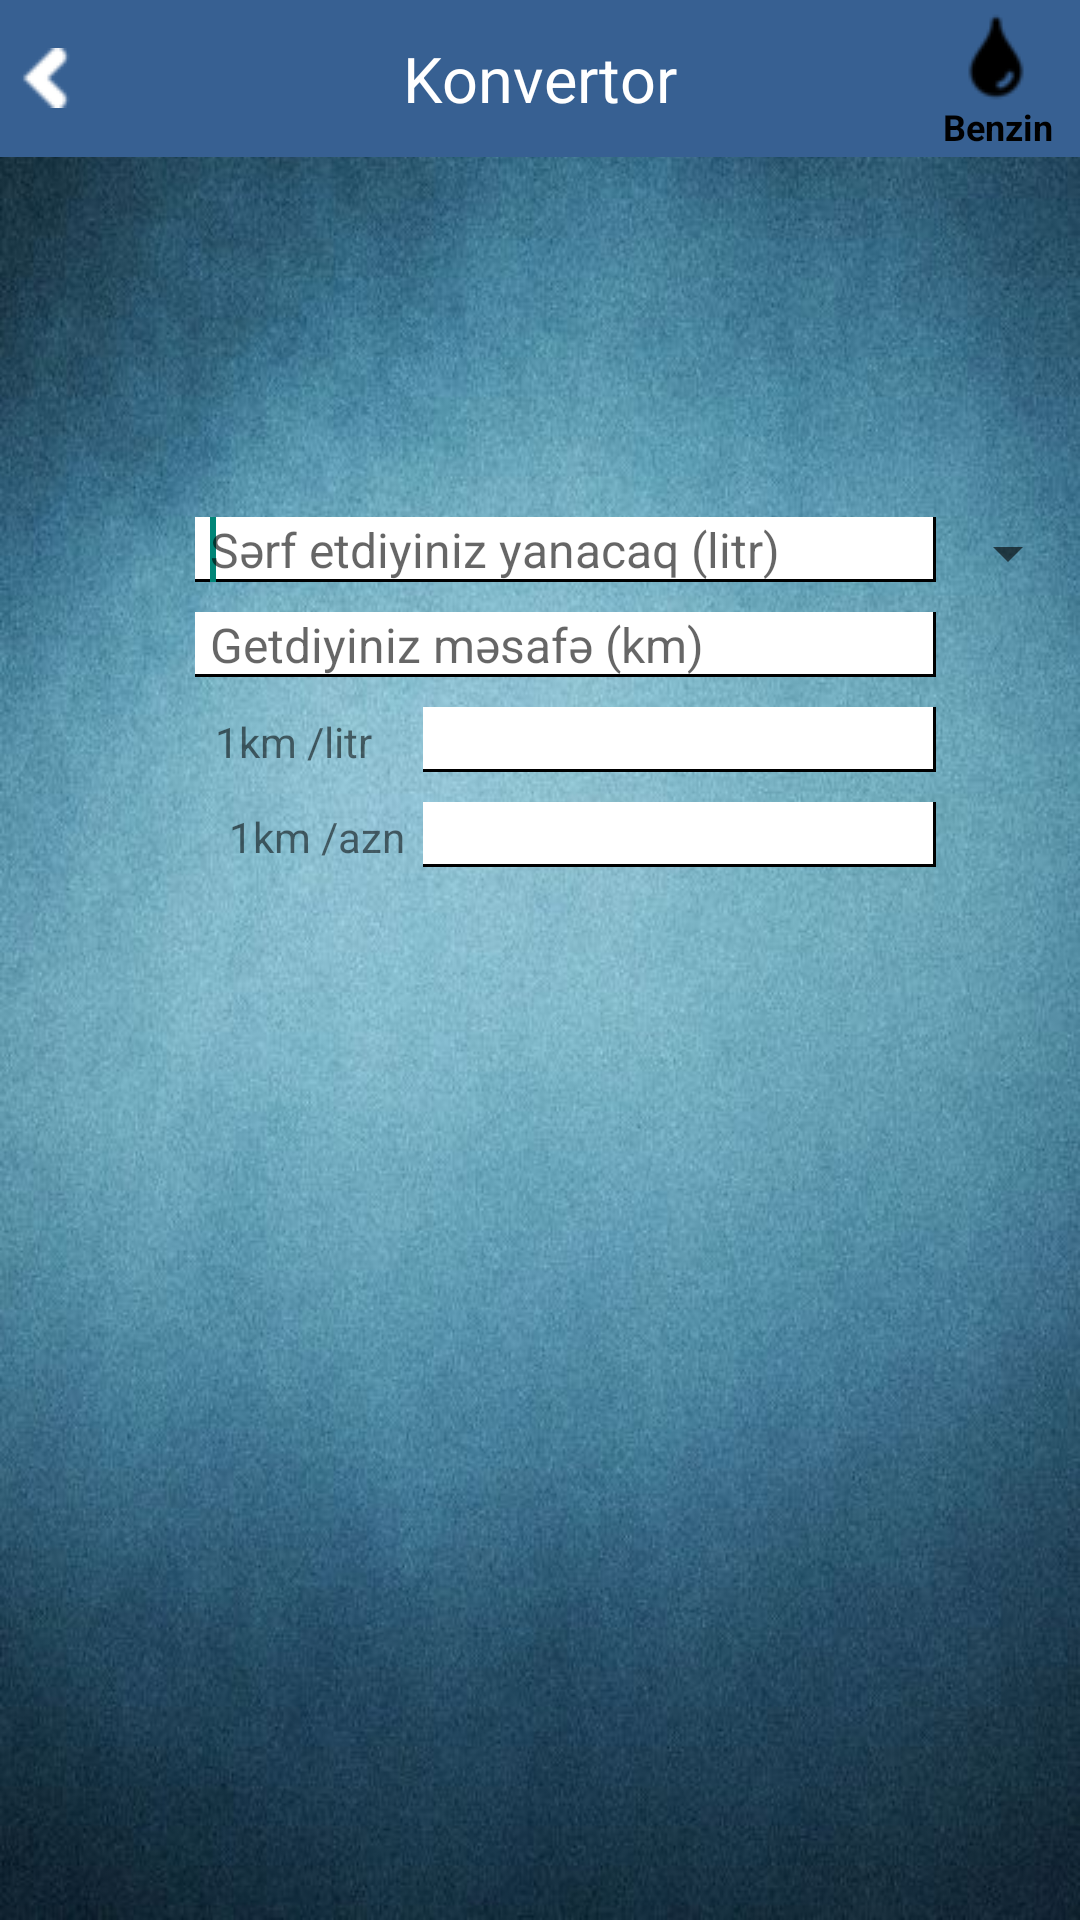

Icon click points for this 1080 × 1920 phone screenshot, format (x=x, y=y):
arrow left: (x=45, y=78)
